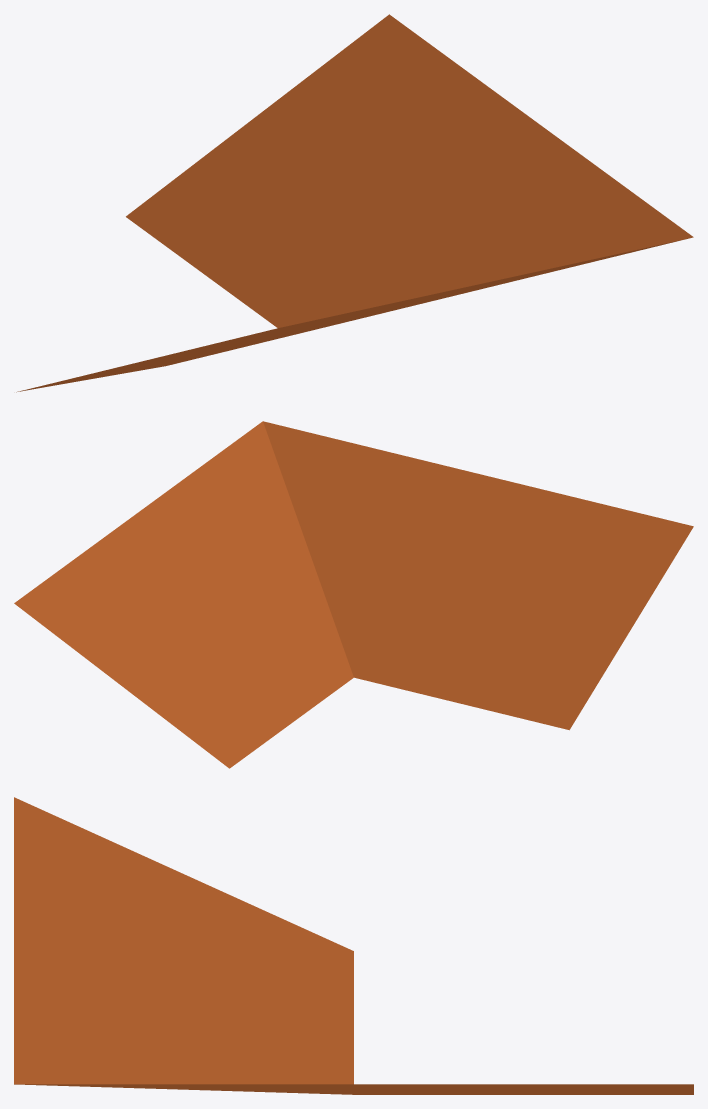
The model's file is borderCornerInterior.fbx.
The picture shows the model from 3 angles, top to bottom: view 1: azimuth 30°, elevation 25°; view 2: azimuth 150°, elevation 25°; view 3: azimuth 270°, elevation 25°; orthographic projection. The views are drawn at different scales.
Visible parts, largest first — view 1: borderCornerInterior; view 2: borderCornerInterior; view 3: borderCornerInterior.
Part boxes in pixels (x1,y1,x2,y2): borderCornerInterior: [16, 14, 693, 392]; borderCornerInterior: [14, 421, 693, 768]; borderCornerInterior: [14, 797, 693, 1094].
Bounding box in the file's own units: 200 × 200 × 50.
